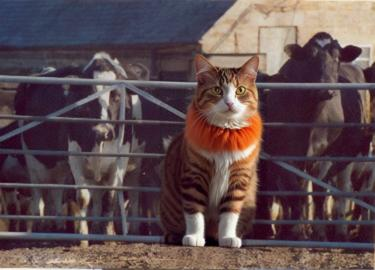cat: (160, 53, 266, 246)
cow: (18, 53, 151, 252), (258, 31, 373, 251)
